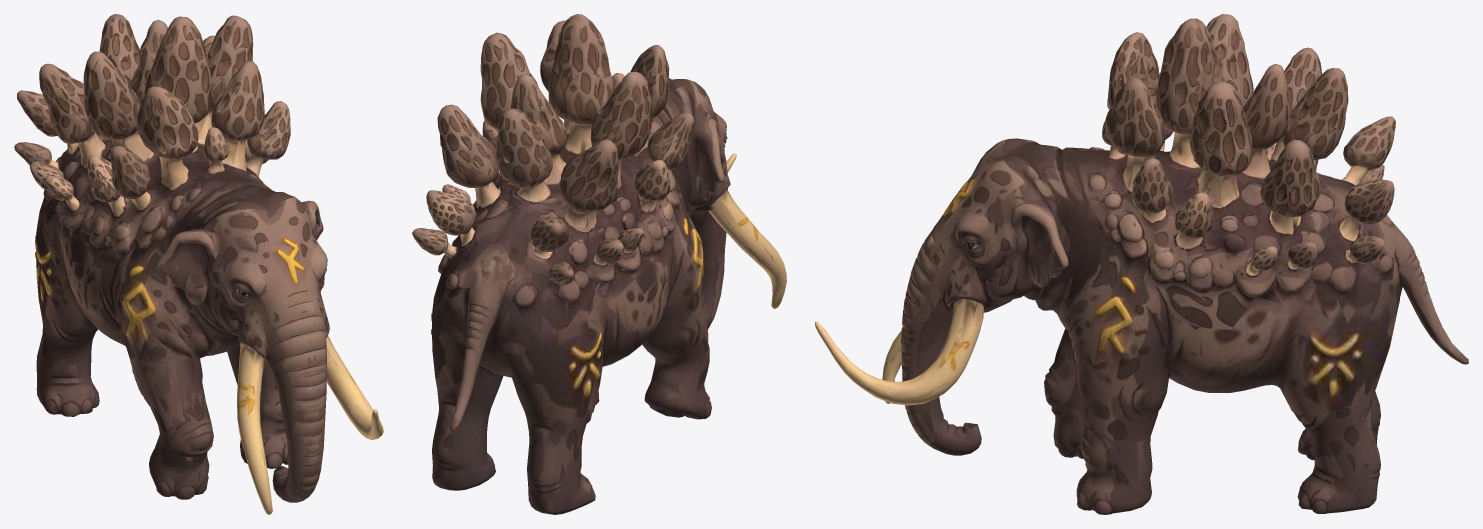
3 views of the same model, side by side, from view 1: azimuth 30°, elevation 25°; view 2: azimuth 150°, elevation 25°; view 3: azimuth 270°, elevation 25° (orthographic). The views are drawn at different scales.
Parts seen in each view (by area): view 1: Mesh_0; view 2: Mesh_0; view 3: Mesh_0.
Boxes of the visible parts, box(x1,y1,x2,y2) form: Mesh_0: box(14, 14, 383, 514); Mesh_0: box(412, 14, 786, 514); Mesh_0: box(815, 14, 1468, 514).
Bounding box in the file's own units: 0.7283 × 1.48 × 1.92.
Materials: 1 (1 with a texture image).
